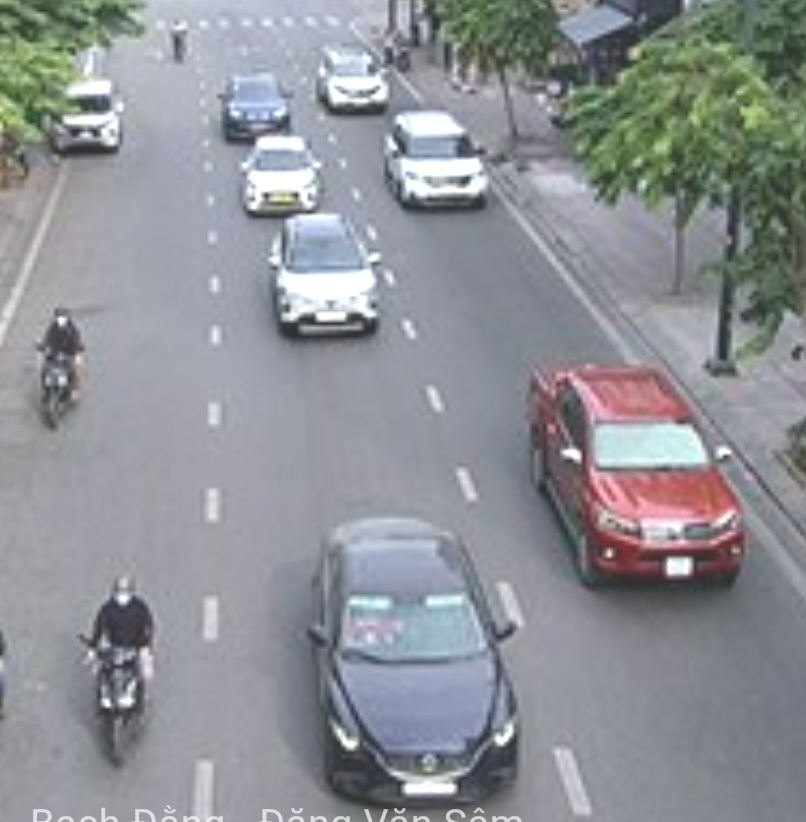car: (305, 515, 528, 800), (524, 357, 747, 593), (265, 217, 390, 343), (380, 108, 491, 214), (239, 133, 324, 217), (47, 72, 128, 158), (313, 39, 393, 114), (218, 70, 298, 141)
